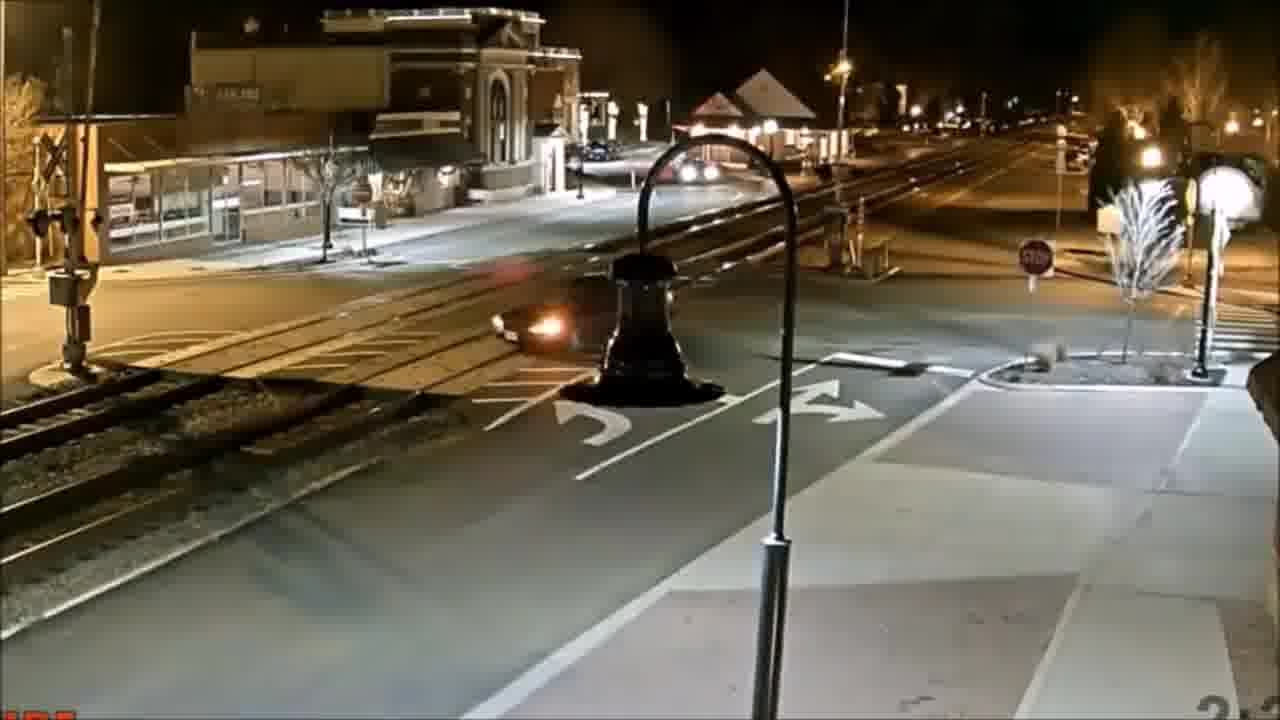crossing railway track: (485, 274, 669, 370)
